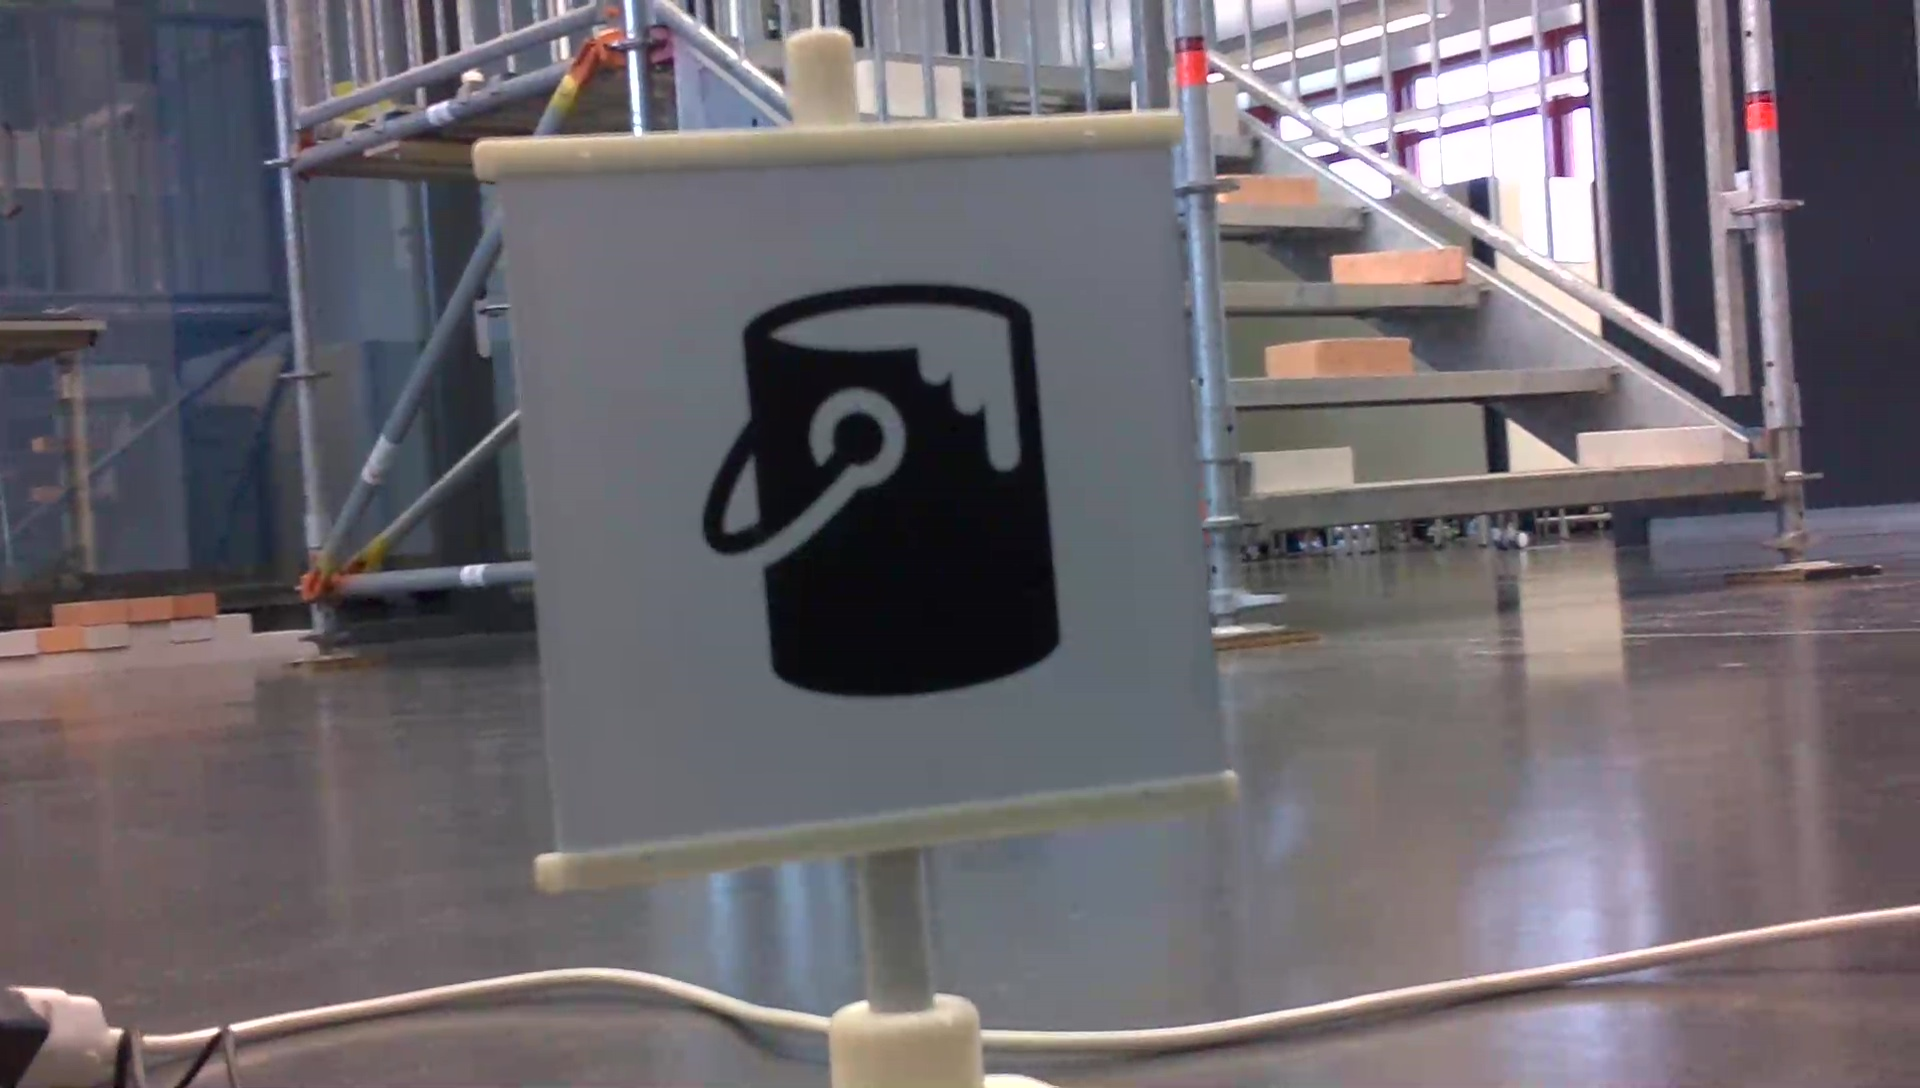brick: (1267, 340, 1408, 377), (1578, 427, 1724, 463), (1335, 245, 1466, 282), (1251, 448, 1346, 487), (1220, 173, 1317, 206), (1205, 83, 1236, 133)
bucket: (692, 270, 1071, 708)
edge: (1258, 463, 1763, 528), (1228, 368, 1625, 405)
